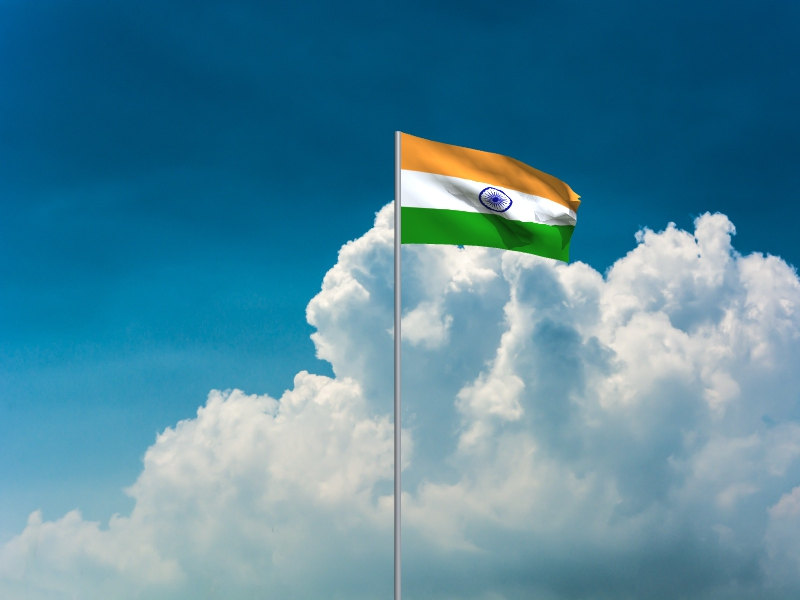in: (401, 134, 583, 265)
